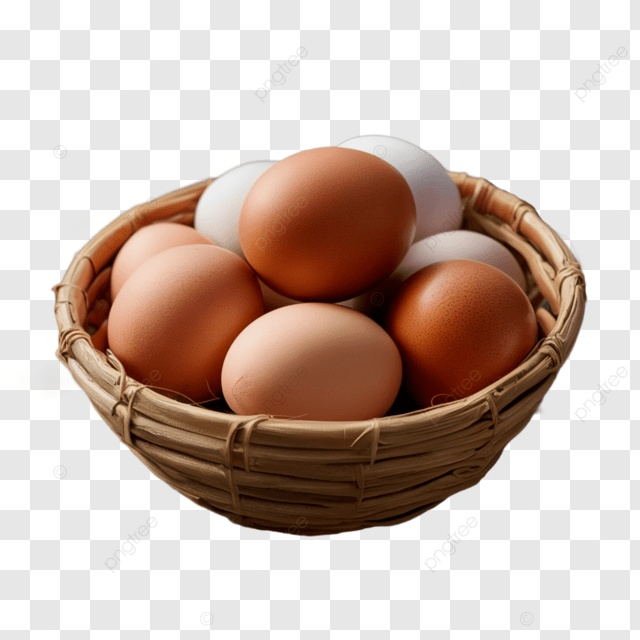trung_ga: (235, 144, 420, 305), (105, 242, 264, 403), (215, 297, 409, 428), (387, 257, 539, 401)
